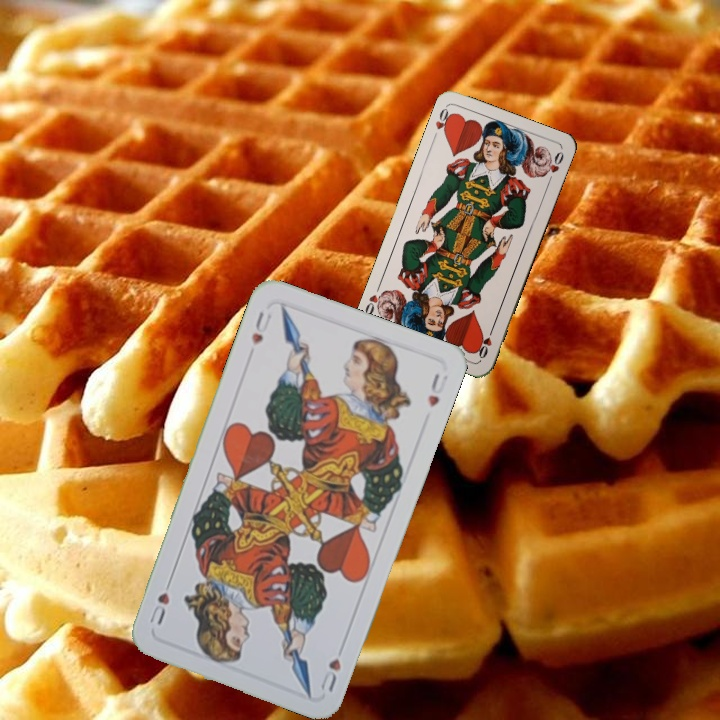HO: (429, 104, 455, 142), (473, 323, 497, 361)
HU: (314, 654, 344, 695), (247, 307, 274, 348)
